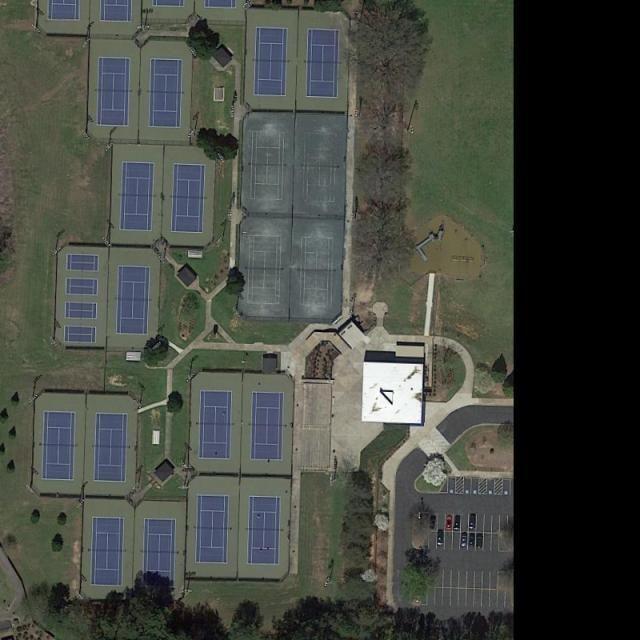vehicle: (437, 530, 446, 546), (430, 516, 438, 533), (469, 514, 477, 530), (476, 534, 484, 549), (460, 532, 468, 547), (454, 515, 462, 530), (446, 515, 454, 530), (469, 534, 477, 546)
